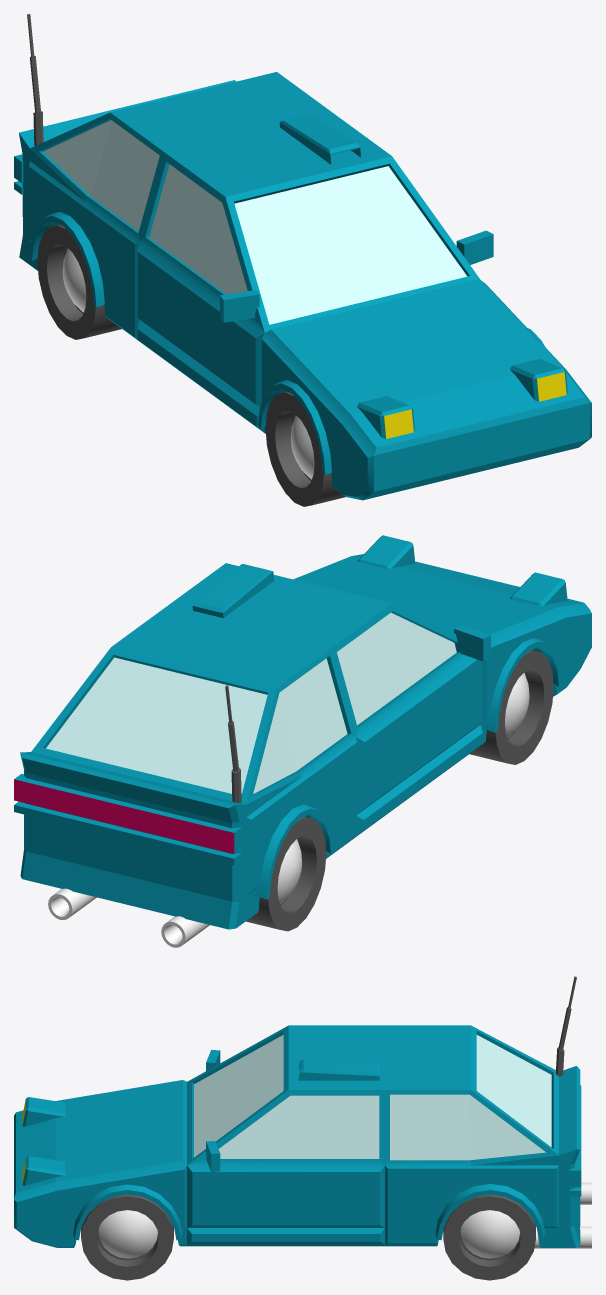
Rendered from DejaVu.fbx.
The picture shows the model from 3 angles, top to bottom: view 1: azimuth 30°, elevation 25°; view 2: azimuth 150°, elevation 25°; view 3: azimuth 270°, elevation 25°; orthographic projection. The views are drawn at different scales.
Visible parts, largest first — view 1: DejaVu; view 2: DejaVu; view 3: DejaVu.
Boxes of the visible parts, <box> form: DejaVu: <box>14,14,591,506</box>; DejaVu: <box>14,535,591,947</box>; DejaVu: <box>14,976,591,1280</box>.
Size of the model in its own units: 2.35 by 2.31 by 5.49.
